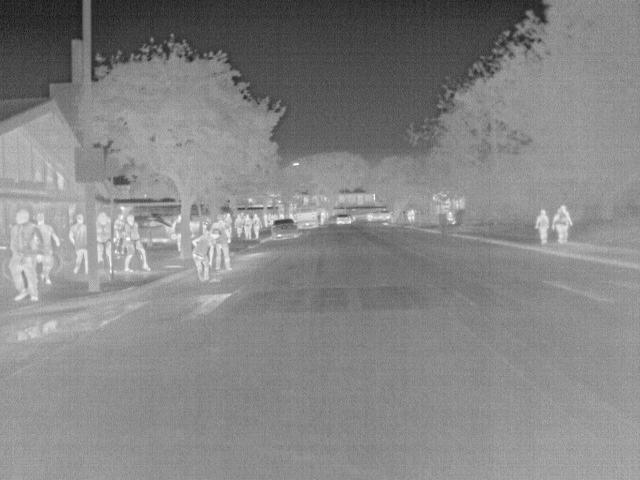car: (136, 216, 173, 243), (270, 216, 299, 236), (332, 213, 354, 227)
person: (5, 211, 45, 301), (122, 215, 156, 272), (34, 215, 60, 284), (190, 229, 222, 281), (211, 213, 237, 273), (94, 210, 114, 274), (70, 215, 88, 270), (550, 204, 574, 242), (533, 208, 552, 242), (170, 214, 182, 250), (249, 212, 263, 239), (241, 212, 255, 238), (446, 210, 459, 225)
